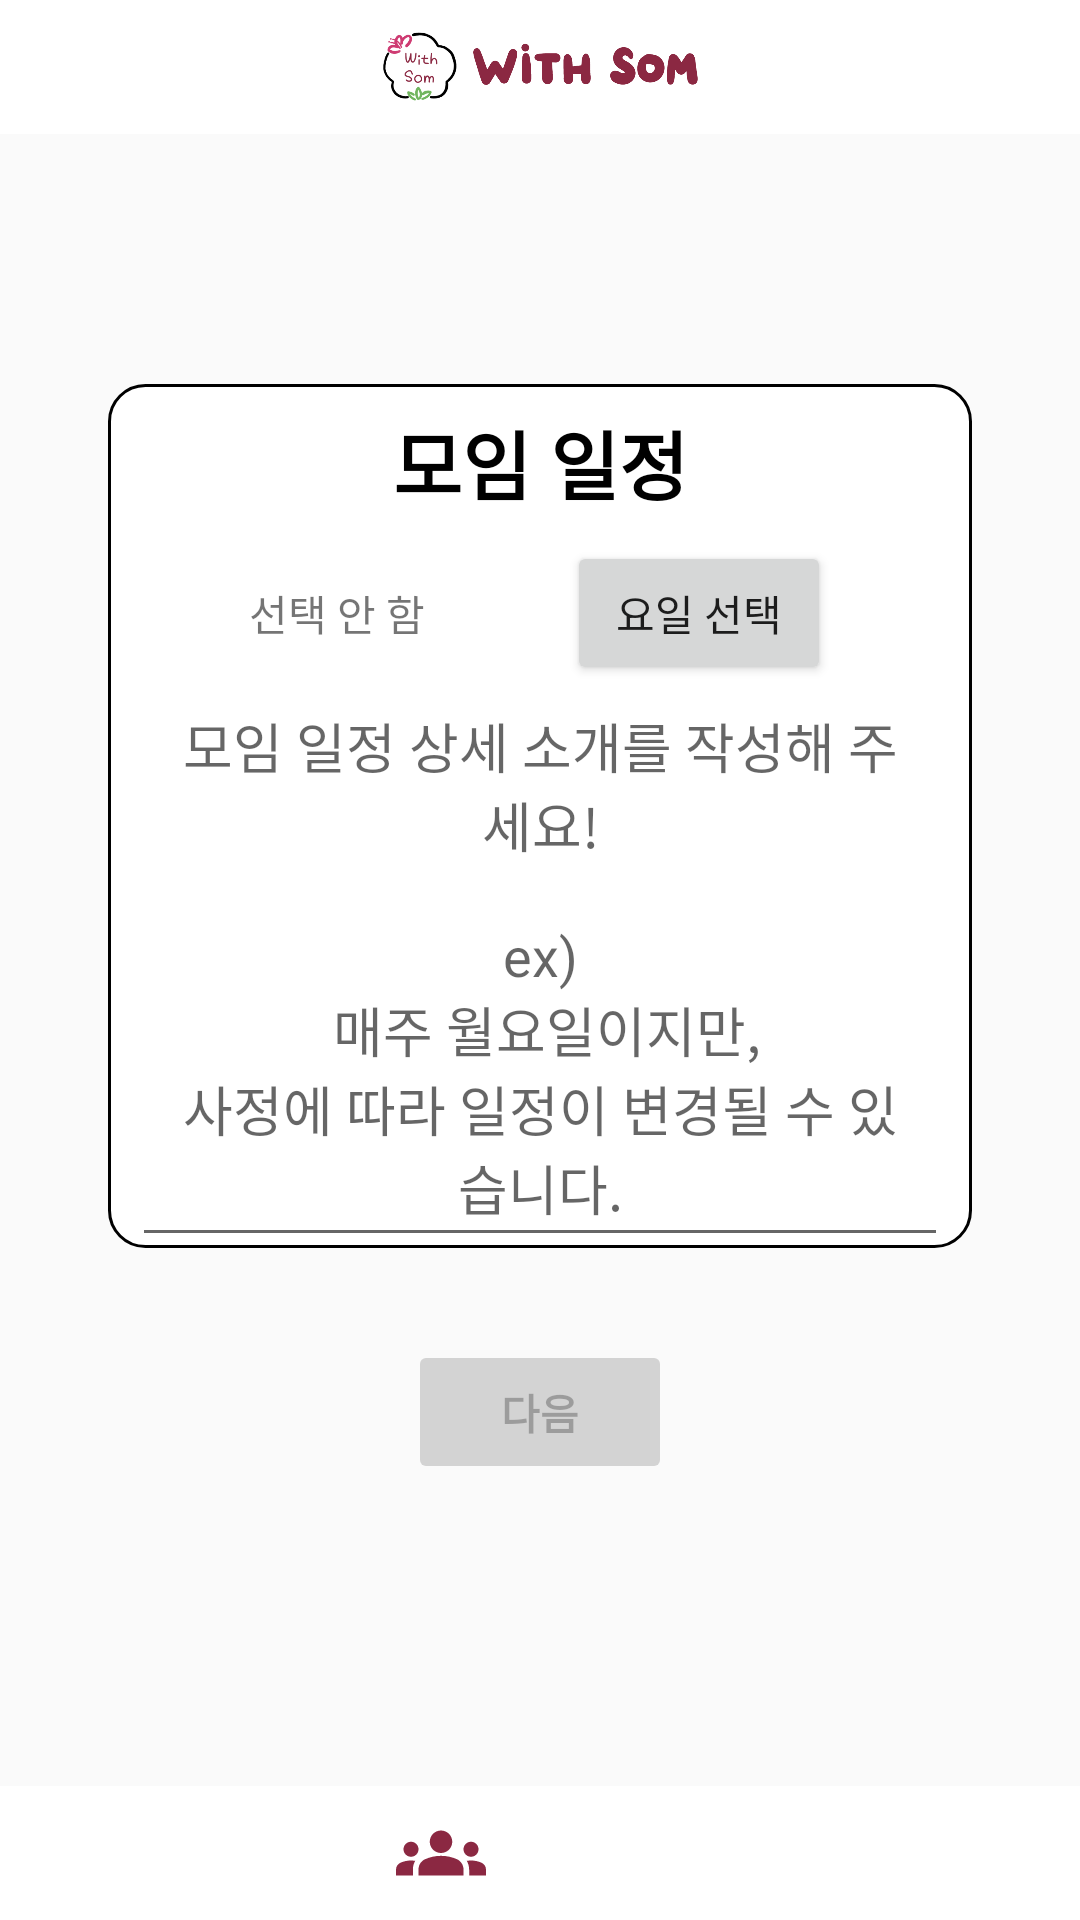

Named icons in this screenshot (1080x1920) and their bounding boxes, Rect(x1, y1, x2, y2):
groups: Rect(396, 1830, 486, 1876)
